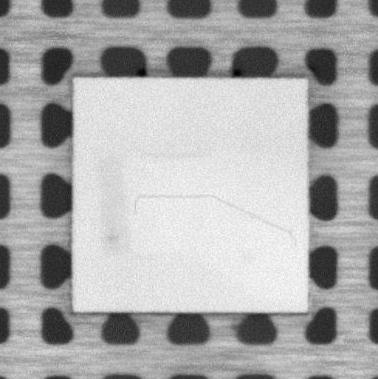DIE_CRACK: (133, 189, 297, 245)
